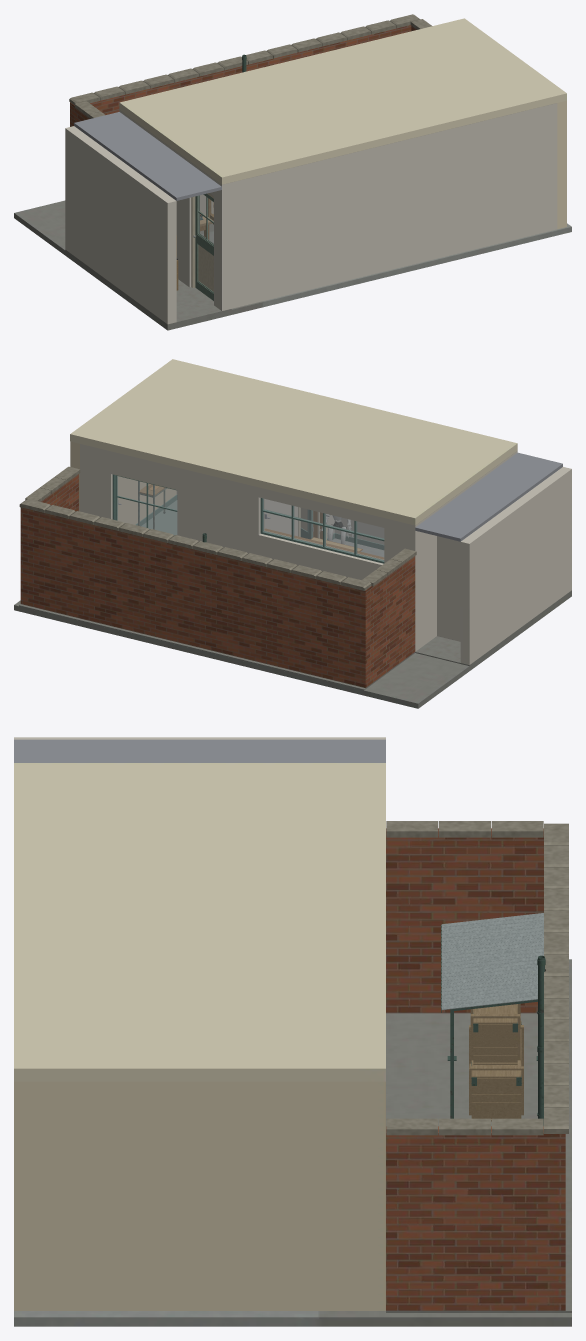
3 renders of one model, top to bottom at view 1: azimuth 30°, elevation 25°; view 2: azimuth 150°, elevation 25°; view 3: azimuth 270°, elevation 25°, orthographic. The views are drawn at different scales.
Visible parts, largest first — view 1: part/outer_walls/south, part/continuous_ceiling/body, part/delivery_passage/body, part/delivery_passage/canopy, part/building_floors/body, part/court_fixtures/coping, part/outer_walls/body, part/court_fixtures/body, part/building_floors/delivery_paving, part/outer_walls/east, part/service_door/leaf, part/service_door/four_glass_panes (+2 smaller); view 2: part/court_fixtures/body, part/continuous_ceiling/body, part/delivery_passage/body, part/outer_walls/court_facing, part/building_floors/body, part/court_fixtures/coping, part/delivery_passage/canopy, part/workshop_window/glass, part/outer_walls/body, part/office_window/glass, part/delivery_passage/return_wall, part/outer_walls/east (+8 smaller); view 3: part/continuous_ceiling/body, part/outer_walls/east, part/court_fixtures/body, part/court_fixtures/coping, part/building_floors/court_paving, part/delivery_passage/canopy, part/building_floors/body, part/court_fixtures/corrugated_cover, part/court_fixtures/crate_boards, part/delivery_passage/body, part/court_fixtures/steel_fittings, part/court_fixtures/drainpipe.
Boxes of the visible parts, box(x1,y1,x2,y2) form: part/outer_walls/south: box(231, 103, 557, 308); part/continuous_ceiling/body: box(119, 18, 566, 184); part/delivery_passage/body: box(65, 126, 176, 324); part/delivery_passage/canopy: box(74, 112, 221, 200); part/building_floors/body: box(14, 200, 571, 330); part/court_fixtures/coping: box(69, 14, 432, 118); part/outer_walls/body: box(119, 110, 231, 310); part/court_fixtures/body: box(70, 25, 416, 126); part/building_floors/delivery_paving: box(65, 250, 231, 325); part/outer_walls/east: box(557, 100, 566, 229); part/service_door/leaf: box(195, 193, 213, 300); part/service_door/four_glass_panes: box(198, 195, 213, 244); part/court_fixtures/body: box(20, 474, 415, 687); part/continuous_ceiling/body: box(70, 359, 517, 525); part/delivery_passage/body: box(460, 467, 571, 664); part/outer_walls/court_facing: box(80, 444, 405, 579); part/building_floors/body: box(14, 591, 571, 708); part/court_fixtures/coping: box(19, 466, 416, 590); part/delivery_passage/canopy: box(415, 452, 562, 541); part/workshop_window/glass: box(263, 498, 383, 560); part/outer_walls/body: box(405, 451, 517, 651); part/office_window/glass: box(117, 476, 176, 535); part/delivery_passage/return_wall: box(437, 536, 460, 641); part/outer_walls/east: box(70, 441, 176, 524); part/continuous_ceiling/body: box(14, 763, 385, 1081); part/outer_walls/east: box(14, 1081, 385, 1310); part/court_fixtures/body: box(386, 828, 565, 1310); part/court_fixtures/coping: box(386, 821, 568, 1135); part/building_floors/court_paving: box(386, 1005, 571, 1312); part/delivery_passage/canopy: box(14, 739, 385, 762); part/building_floors/body: box(14, 959, 571, 1326); part/court_fixtures/corrugated_cover: box(441, 913, 543, 1010); part/court_fixtures/crate_boards: box(469, 1003, 523, 1121); part/delivery_passage/body: box(14, 737, 385, 739); part/court_fixtures/steel_fittings: box(441, 925, 543, 1118); part/court_fixtures/drainpipe: box(537, 955, 545, 1125).
Bounding box in the file's own units: 8.2 × 2.71 × 5.4.
Materials: 103 (103 with a texture image).
